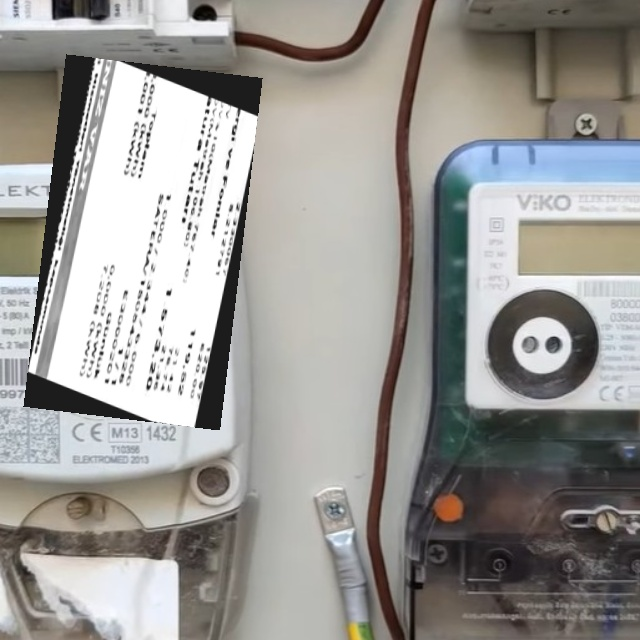electricity-bill: (22, 54, 262, 430)
